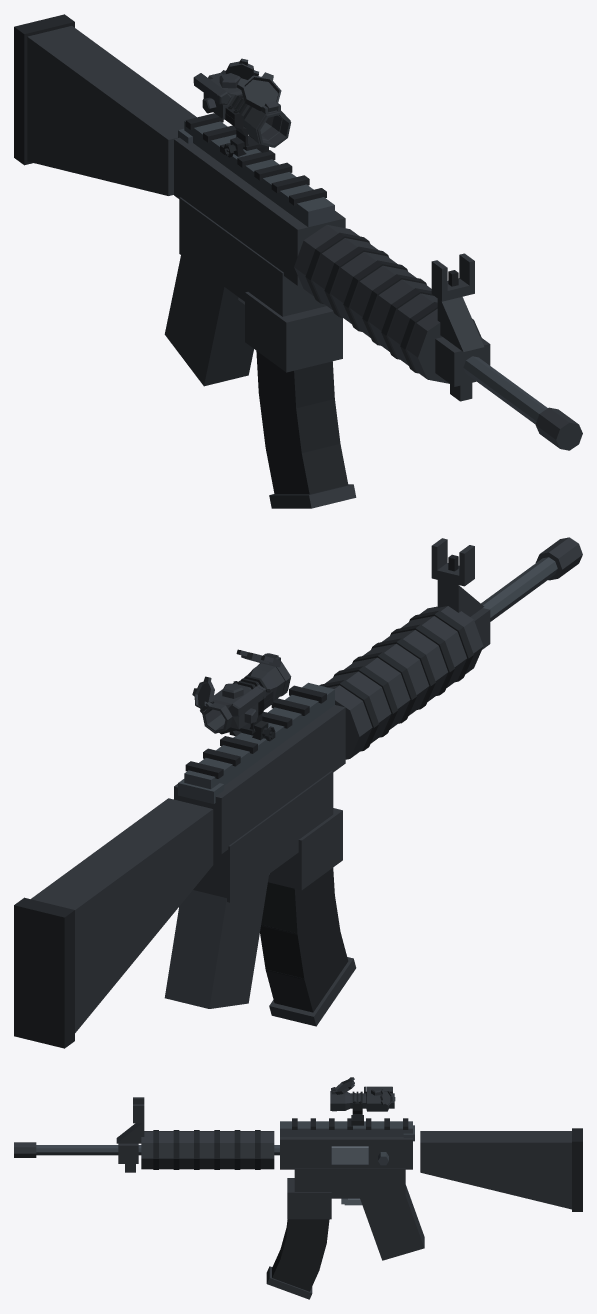
File: wpn_m16_compm2.fbx
3 renders of one model, top to bottom at view 1: azimuth 30°, elevation 25°; view 2: azimuth 150°, elevation 25°; view 3: azimuth 270°, elevation 25°, orthographic. The views are drawn at different scales.
Visible parts, largest first — view 1: wpn_m16_compm2; view 2: wpn_m16_compm2; view 3: wpn_m16_compm2.
Boxes of the visible parts, x1,y1,x2,y2 form: wpn_m16_compm2: (14,14,582,508); wpn_m16_compm2: (14,537,582,1048); wpn_m16_compm2: (14,1077,582,1299).
Bounding box in the file's own units: 25.5 × 128 × 308.
